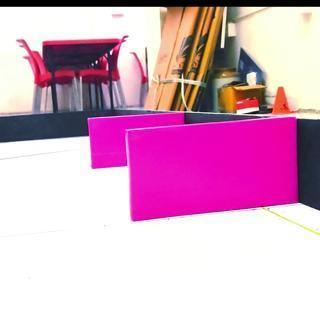xparking: (128, 128, 298, 214), (90, 118, 124, 168)
